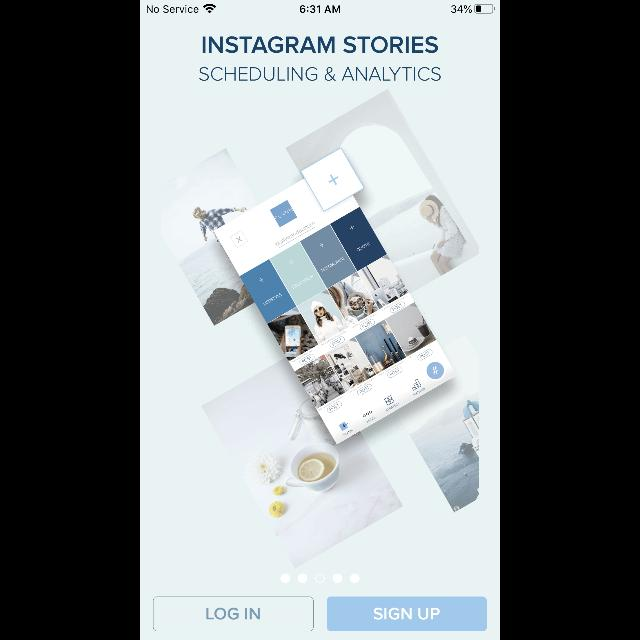backgroundimage: (140, 1, 500, 640)
pageindicator: (280, 573, 360, 583)
text: (202, 37, 438, 53), (200, 68, 440, 80)
textbutton: (327, 596, 487, 632), (153, 596, 313, 632)
uppertaskbar: (140, 0, 500, 14)
